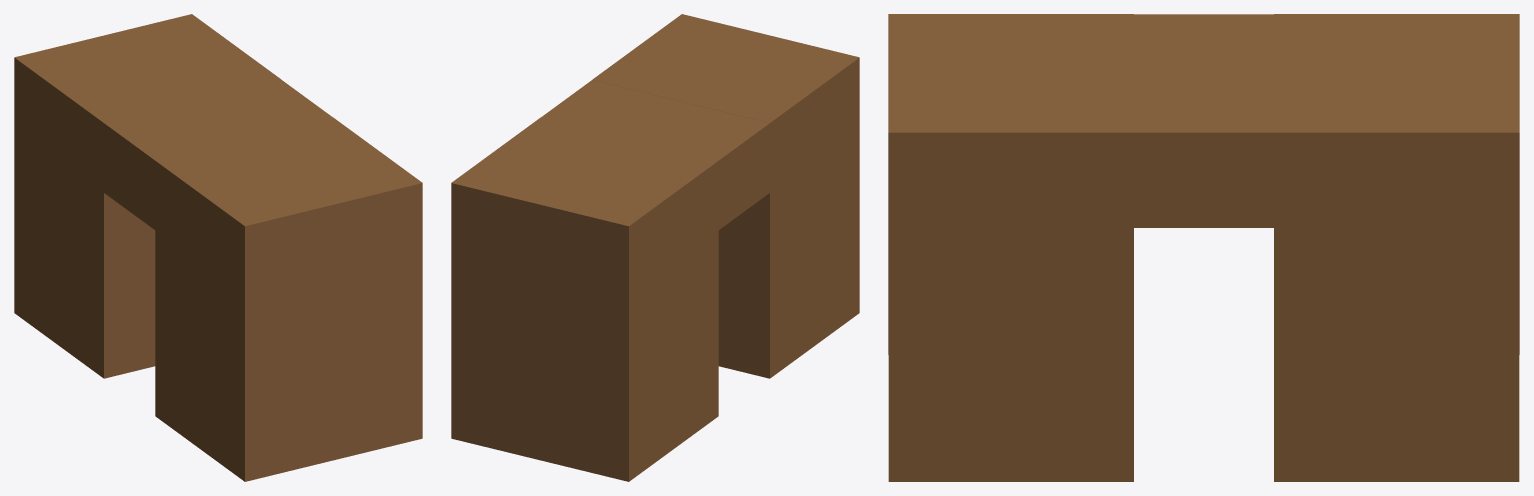
The model's file is av_bottom_brown.glb.
3 renders of one model, left to right at view 1: azimuth 30°, elevation 25°; view 2: azimuth 150°, elevation 25°; view 3: azimuth 270°, elevation 25°, orthographic. The views are drawn at different scales.
Parts seen in each view (by area): view 1: model-1; view 2: model-1; view 3: model-1.
Part boxes in pixels (box(x1,y1,x2,y2)): model-1: box(14, 14, 422, 481); model-1: box(451, 14, 859, 481); model-1: box(888, 14, 1519, 481).
Size of the model in its own units: 0.0801 by 0.11 by 0.1801.
1 material, 1 textured.
